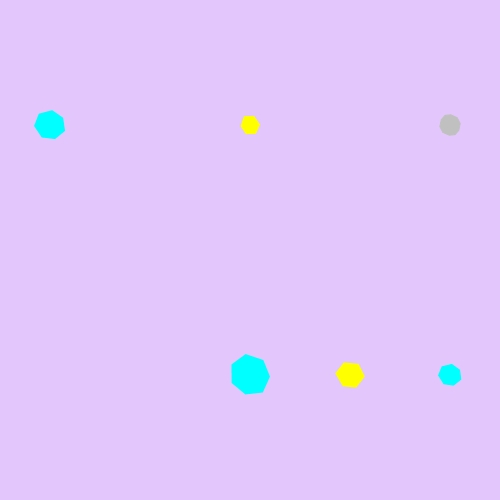decagon: (435, 111, 466, 140)
heptagon: (226, 352, 274, 398), (31, 107, 70, 144), (435, 360, 466, 390)
hexagon: (331, 359, 369, 391), (235, 112, 265, 138)
